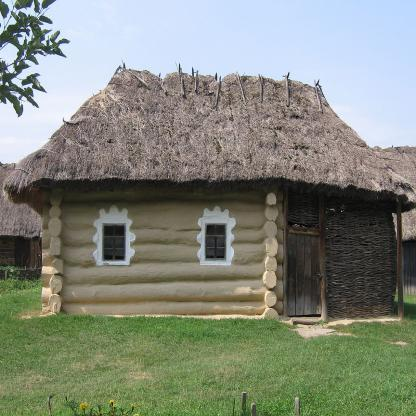Building Outline: (2, 65, 416, 324)
Door: (287, 233, 321, 316)
Facade: (42, 151, 397, 318)
Ground Floor: (42, 180, 397, 318)
Pillar: (396, 201, 404, 319)
Roof: (2, 65, 416, 218)
Window: (102, 223, 126, 261), (205, 223, 227, 262)
Window Outline: (93, 205, 136, 266), (196, 206, 236, 266)
